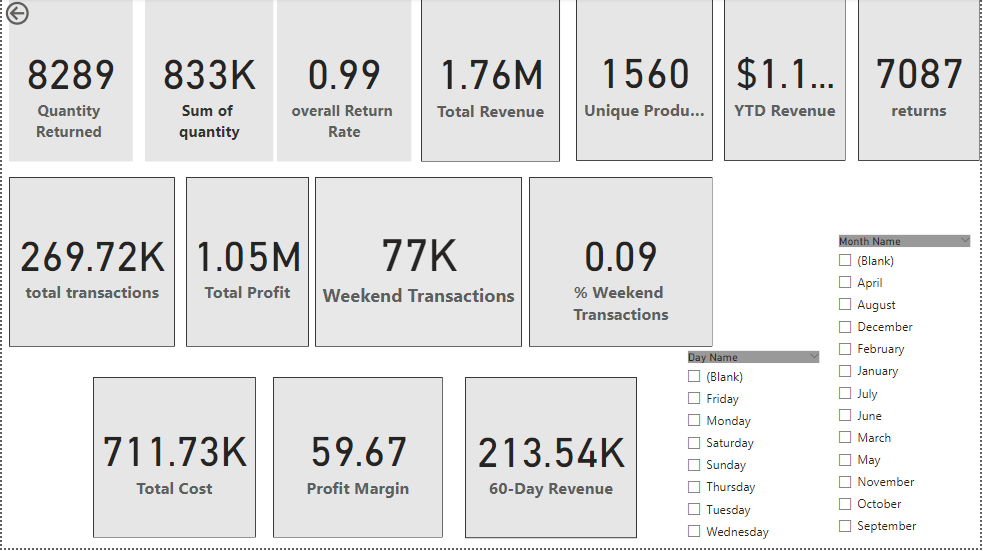

The page's visual inventory and layout, read from the dashboard file:
{"tool":"powerbi","page":{"name":"Page 1","canvas":[1280,720],"ordinal":0},"visuals":[{"type":"card","fields":{"Values":["Sum(Return_Data.quantity)"]},"box":[9.2,0,162.3,214.4],"z":0},{"type":"card","fields":{"Values":["Sum(Transaction_Data.quantity)"]},"box":[186.8,0,168.4,214.4],"z":1000},{"type":"card","fields":{"Values":["CountNonNull(Transaction_Data.quantity)"]},"box":[9.2,234.3,217.4,222],"z":2000},{"type":"card","fields":{"Values":["CountNonNull(Return_Data.quantity)"]},"box":[1120.8,0,159.2,212.8],"z":3000},{"type":"card","fields":{"Values":["Return_Data.Return Rate"]},"box":[359.8,0,176.1,214.4],"z":4000},{"type":"card","fields":{"Values":["Transaction_Data.Weekend Transactions"]},"box":[410.3,234.3,271,222],"z":5000},{"type":"actionButton","box":[0,0,100,40],"z":6000},{"type":"card","fields":{"Values":["Transaction_Data.% Weekend Transactions"]},"box":[690.5,234.3,240.4,222],"z":7000},{"type":"card","fields":{"Values":["Transaction_Data.Total Revenue"]},"box":[548.1,0,182.2,214.4],"z":8000},{"type":"card","fields":{"Values":["Transaction_Data.Total Cost"]},"box":[119.4,496.1,212.8,209.8],"z":9000},{"type":"card","fields":{"Values":["Transaction_Data.Total Profit"]},"box":[240.4,234.3,160.8,222],"z":10000},{"type":"card","fields":{"Values":["Transaction_Data.Profit Margin"]},"box":[355.2,496.1,222,209.8],"z":11000},{"type":"card","fields":{"Values":["Transaction_Data.60-Day Revenue"]},"box":[606.3,496.1,225.1,211.3],"z":12000},{"type":"card","fields":{"Values":["Products.Unique Products"]},"box":[751.8,0,179.1,212.8],"z":13000},{"type":"card","fields":{"Values":["Transaction_Data.YTD Revenue"]},"box":[944.7,0,159.2,212.8],"z":14000},{"type":"slicer","fields":{"Values":["Calendar.Day Name"]},"box":[885,456.3,197.5,263.3],"z":15000},{"type":"slicer","fields":{"Values":["Calendar.Month Name"]},"box":[1082.5,304.7,197.5,414.9],"z":16000}]}

Visuals, with their boxes on the page's 1280x720 design canvas (x1, y1, x2, y2). These are canvas units, not pixel positions in the 983x551 screenshot, which may show the page scaled, cropped or inside an application window:
card - Sum(Return_Data.quantity): l=9, t=0, r=172, b=214
card - Sum(Transaction_Data.quantity): l=187, t=0, r=355, b=214
card - CountNonNull(Transaction_Data.quantity): l=9, t=234, r=227, b=456
card - CountNonNull(Return_Data.quantity): l=1121, t=0, r=1280, b=213
card - Return_Data.Return Rate: l=360, t=0, r=536, b=214
card - Transaction_Data.Weekend Transactions: l=410, t=234, r=681, b=456
actionButton: l=0, t=0, r=100, b=40
card - Transaction_Data.% Weekend Transactions: l=690, t=234, r=931, b=456
card - Transaction_Data.Total Revenue: l=548, t=0, r=730, b=214
card - Transaction_Data.Total Cost: l=119, t=496, r=332, b=706
card - Transaction_Data.Total Profit: l=240, t=234, r=401, b=456
card - Transaction_Data.Profit Margin: l=355, t=496, r=577, b=706
card - Transaction_Data.60-Day Revenue: l=606, t=496, r=831, b=707
card - Products.Unique Products: l=752, t=0, r=931, b=213
card - Transaction_Data.YTD Revenue: l=945, t=0, r=1104, b=213
slicer - Calendar.Day Name: l=885, t=456, r=1082, b=720
slicer - Calendar.Month Name: l=1082, t=305, r=1280, b=720
